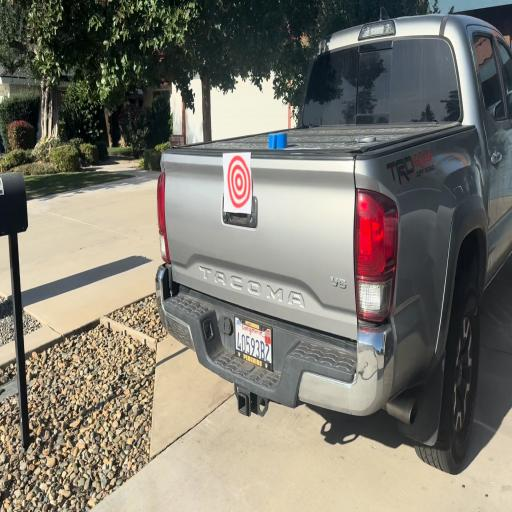bullseye: (226, 152, 251, 213)
